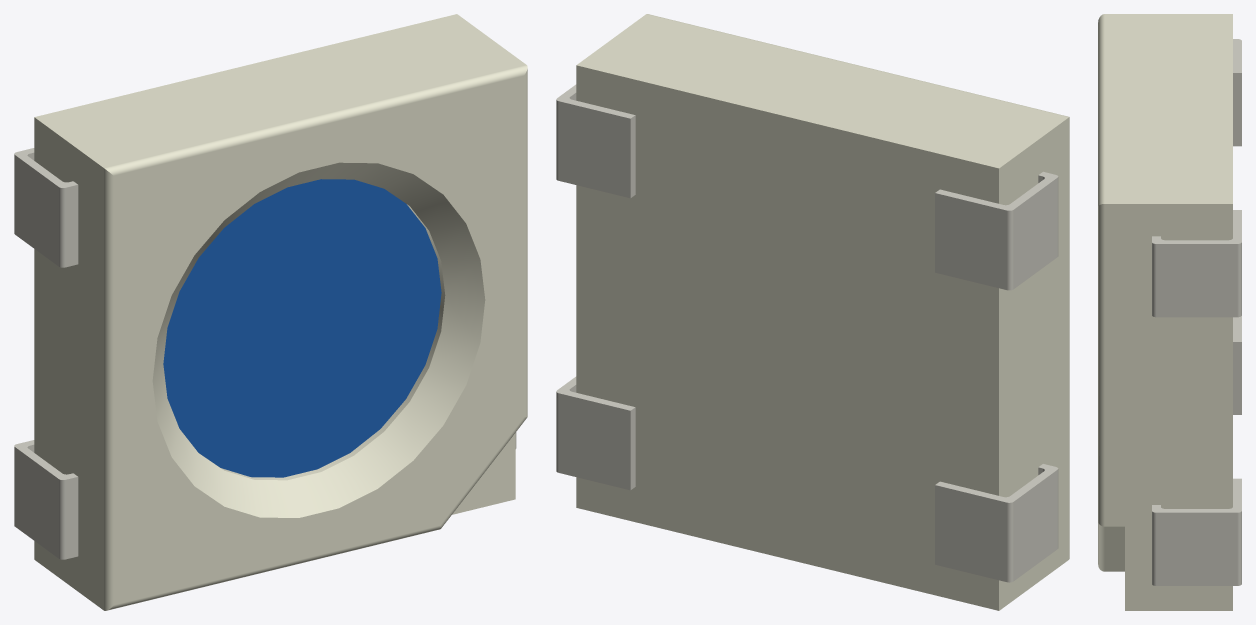
File: WS2812B_SMD.glb
3 views of the same model, side by side, from view 1: azimuth 30°, elevation 25°; view 2: azimuth 150°, elevation 25°; view 3: azimuth 270°, elevation 25° (orthographic). The views are drawn at different scales.
Visible parts, largest first — view 1: LED_WS2812B_PLCC4_50x50mm_P32mm; view 2: LED_WS2812B_PLCC4_50x50mm_P32mm; view 3: LED_WS2812B_PLCC4_50x50mm_P32mm.
Part boxes in pixels (<box>): LED_WS2812B_PLCC4_50x50mm_P32mm: <box>14,14,527,610</box>; LED_WS2812B_PLCC4_50x50mm_P32mm: <box>556,14,1069,610</box>; LED_WS2812B_PLCC4_50x50mm_P32mm: <box>1098,14,1241,610</box>.
Size of the model in its own units: 0.0054 by 0.005 by 0.0016.
